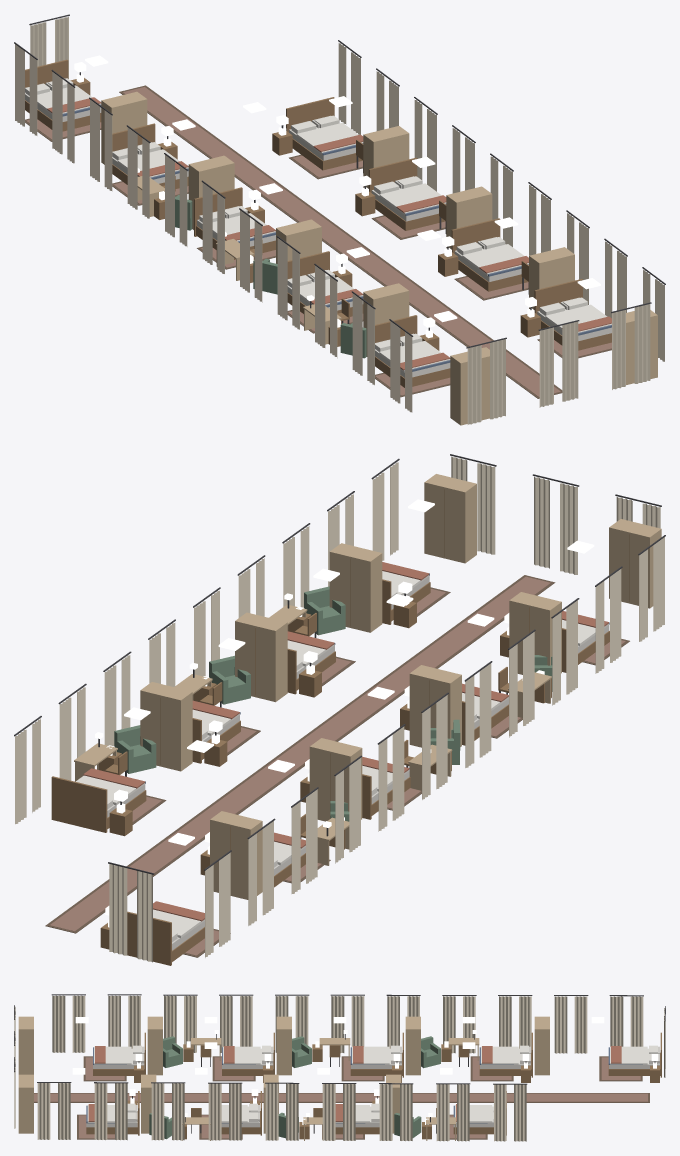
The model's file is fine-s2.glb.
3 renders of one model, top to bottom at view 1: azimuth 30°, elevation 25°; view 2: azimuth 150°, elevation 25°; view 3: azimuth 270°, elevation 25°, orthographic. The views are drawn at different scales.
Parts seen in each view (by area): view 1: soft-s2, bed-frame.011, bed-frame.010, bed-frame.009, dresser.017, bed-frame.012, bed-frame.017, dresser.010, dresser.009, dresser.011, dresser.014, dresser.013 (+7 smaller); view 2: soft-s2, dresser.012, dresser.011, dresser.010, dresser.009, dresser.013, bed-frame.009, dresser.017, dresser.015, dresser.014, dresser.016, bed-frame.013 (+9 smaller); view 3: soft-s2, dresser.012, dresser.013, dresser.014, dresser.015, dresser.016, dresser.017, bed-frame.013, bed-frame.014, bed-frame.015, dresser.011, bed-frame.016 (+14 smaller).
Part boxes in pixels (x1,y1,x2,y2): soft-s2: (14, 14, 665, 424); bed-frame.011: (451, 218, 528, 291); bed-frame.010: (368, 157, 446, 230); bed-frame.009: (286, 97, 363, 170); dresser.017: (450, 347, 489, 425); bed-frame.012: (534, 279, 611, 350); bed-frame.017: (375, 315, 450, 387); dresser.010: (446, 186, 492, 249); dresser.009: (363, 126, 409, 188); dresser.011: (529, 247, 574, 309); dresser.014: (188, 155, 234, 229); dresser.013: (101, 91, 147, 164); soft-s2: (14, 454, 665, 962); dresser.012: (424, 474, 476, 563); dresser.011: (329, 543, 382, 632); dresser.010: (235, 612, 287, 702); dresser.009: (140, 682, 192, 771); dresser.013: (210, 811, 262, 899); bed-frame.009: (51, 776, 146, 832); dresser.017: (609, 519, 661, 608); dresser.015: (409, 665, 461, 747); dresser.014: (309, 738, 362, 821); dresser.016: (509, 592, 561, 674); bed-frame.013: (127, 911, 204, 965); soft-s2: (14, 994, 665, 1141); dresser.012: (18, 1074, 33, 1133); dresser.013: (534, 1016, 549, 1075); dresser.014: (405, 1016, 420, 1075); dresser.015: (276, 1016, 291, 1075); dresser.016: (147, 1016, 162, 1075); dresser.017: (18, 1016, 33, 1074); bed-frame.013: (608, 1032, 661, 1077); bed-frame.014: (479, 1032, 532, 1077); bed-frame.015: (350, 1032, 403, 1077); dresser.011: (141, 1074, 156, 1133); bed-frame.016: (222, 1032, 274, 1075).
Size of the model in its own units: 8.35 by 2.56 by 25.68.
